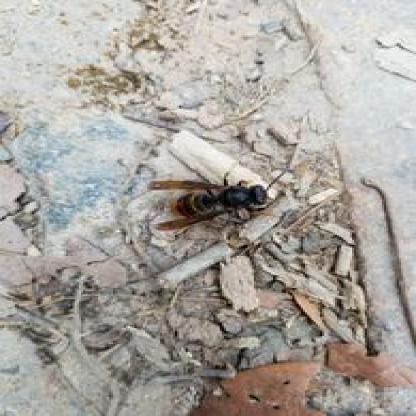Asian Hornet: (141, 174, 280, 236)
